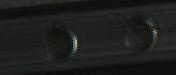joints: (39, 21, 80, 63), (122, 12, 160, 52)
